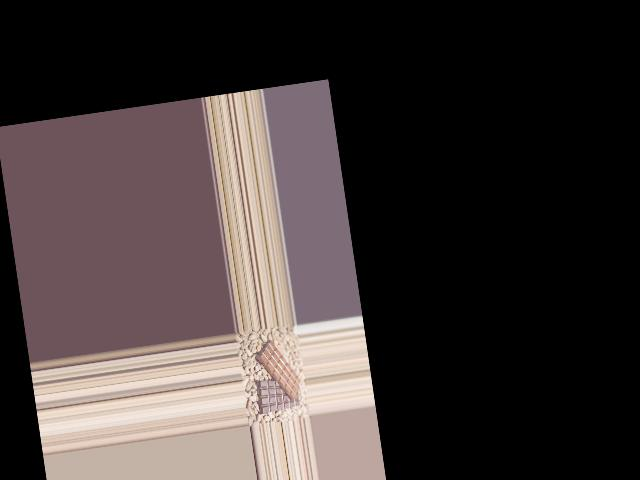chocolate: (253, 375, 303, 418)
